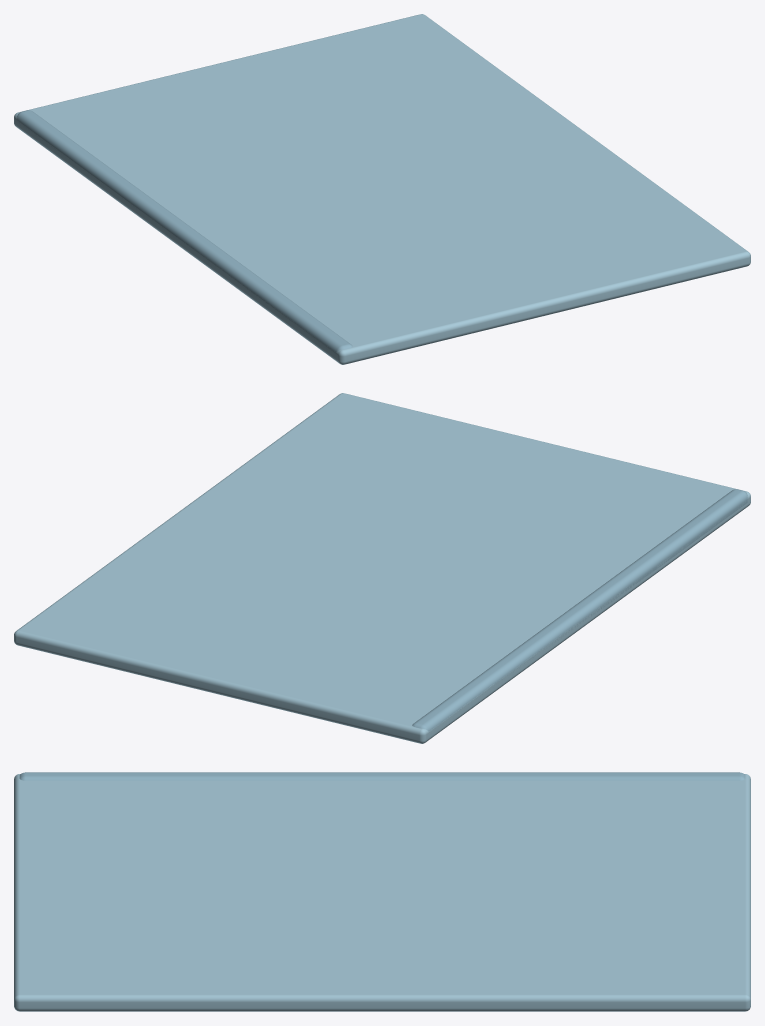
Rendered from book-binding.glb.
The picture shows the model from 3 angles, top to bottom: view 1: azimuth 30°, elevation 25°; view 2: azimuth 150°, elevation 25°; view 3: azimuth 270°, elevation 25°; orthographic projection. The views are drawn at different scales.
Parts seen in each view (by area): view 1: clothbound front board, rounded spine shoulder; view 2: clothbound front board, rounded spine shoulder; view 3: clothbound front board, rounded spine shoulder.
Part boxes in pixels (<box>): clothbound front board: <box>14,14,750,364</box>; rounded spine shoulder: <box>17,110,352,352</box>; clothbound front board: <box>14,393,750,743</box>; rounded spine shoulder: <box>412,489,747,732</box>; clothbound front board: <box>14,774,750,1011</box>; rounded spine shoulder: <box>19,772,745,780</box>.
Size of the model in its own units: 4.12 by 0.16 by 5.7.
